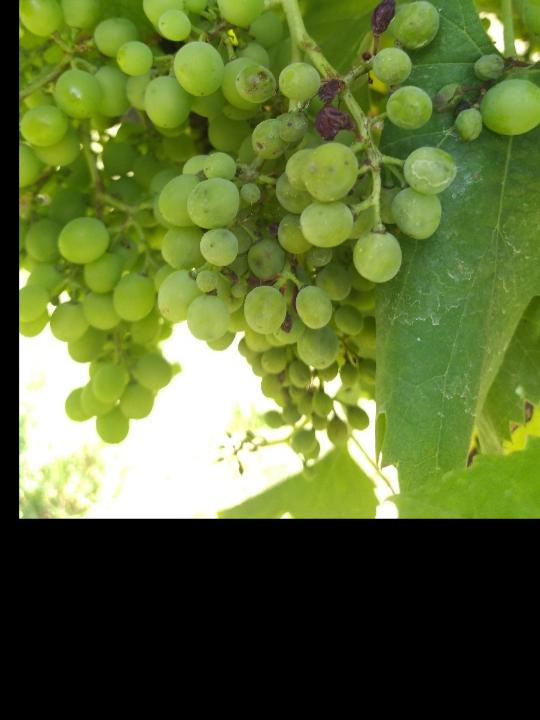grape: (116, 0, 460, 371)
